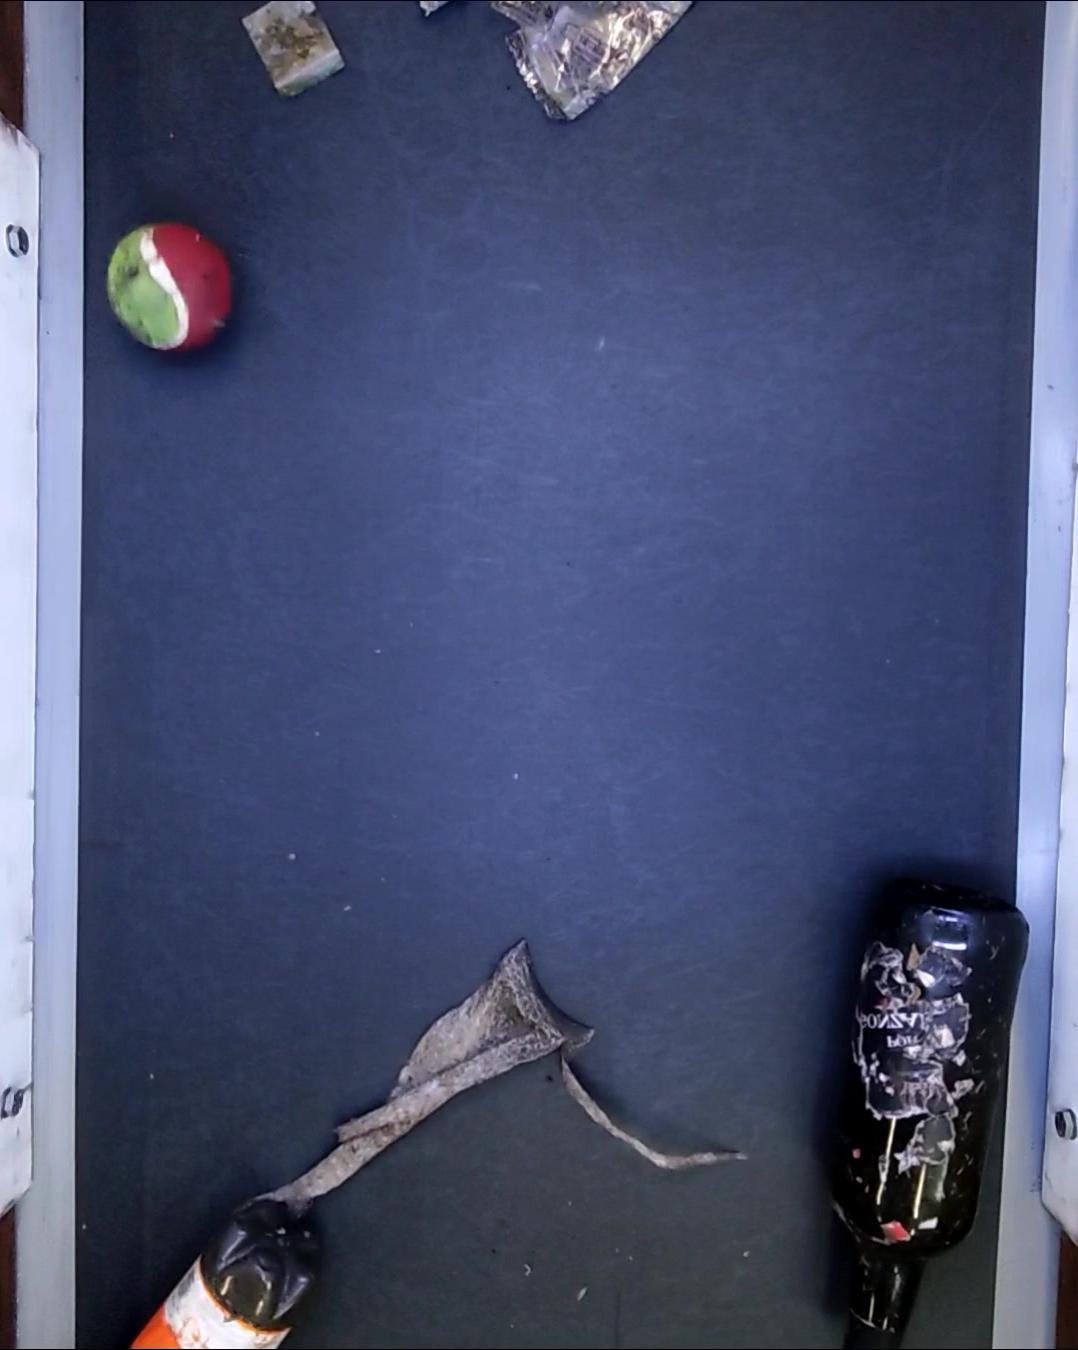Drankflessen - 1-2 liter: (128, 1200, 328, 1349)
Plastic folies of stukken daarvan 2.5- 50 cm: (242, 947, 744, 1215), (238, 0, 341, 100)
Snoep snack en chips verpakkingen: (490, 0, 694, 124)
